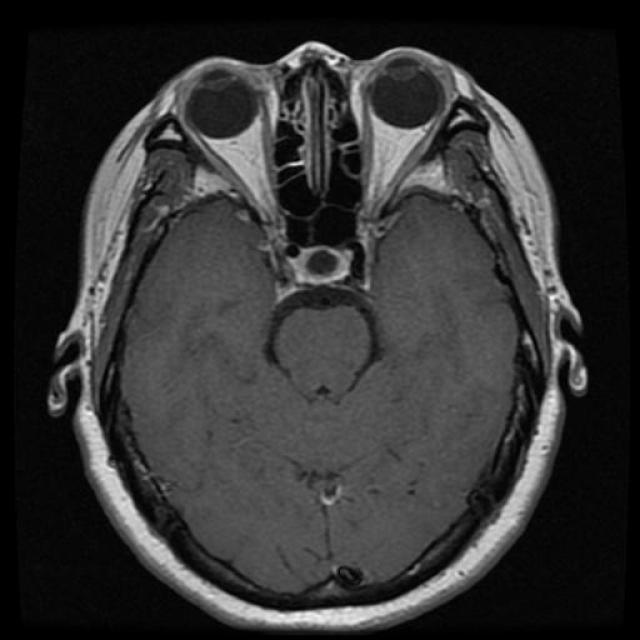Brain-Tumor: (283, 228, 364, 306)
eye: (348, 39, 467, 248), (163, 39, 290, 234)
